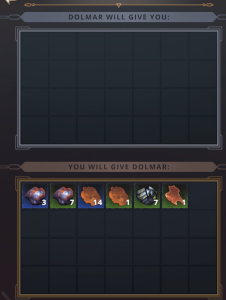iron ore: (21, 182, 48, 209), (49, 182, 76, 209)
soft hide: (78, 182, 105, 209), (106, 182, 133, 209)
tin ore: (134, 183, 160, 209)
tough hide: (161, 182, 188, 209)
